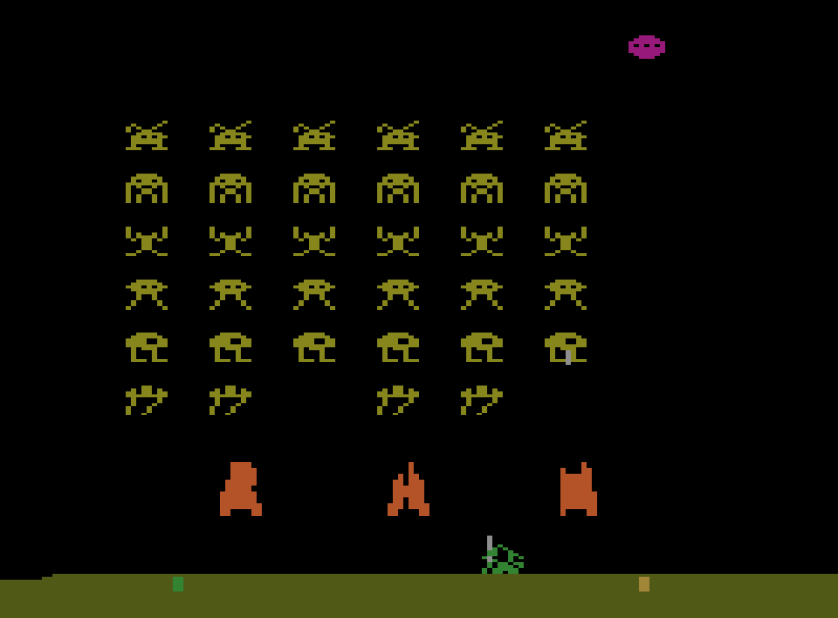bonus: (627, 33, 666, 61)
bullet: (485, 533, 493, 563)
invader1: (122, 119, 170, 153), (459, 119, 506, 152), (291, 120, 338, 152), (209, 118, 253, 152), (375, 119, 420, 152), (543, 120, 589, 152)
invader2: (459, 170, 505, 206), (290, 170, 337, 205), (124, 170, 169, 205), (208, 171, 253, 206), (375, 171, 420, 205), (543, 171, 588, 205)
invader3: (542, 223, 589, 257), (207, 224, 253, 258), (290, 224, 337, 257), (458, 225, 505, 258), (375, 225, 420, 259), (125, 224, 170, 257)
invader4: (124, 275, 170, 311), (543, 276, 588, 312), (207, 276, 252, 311), (292, 278, 337, 312), (460, 278, 505, 312), (375, 278, 420, 311)
invader5: (125, 330, 170, 365), (208, 330, 253, 365), (459, 329, 504, 364), (292, 330, 338, 364), (375, 330, 421, 364), (543, 329, 589, 363)
invader6: (207, 382, 253, 417), (375, 383, 421, 417), (460, 383, 505, 417), (125, 384, 169, 416)
player: (479, 543, 525, 575)
